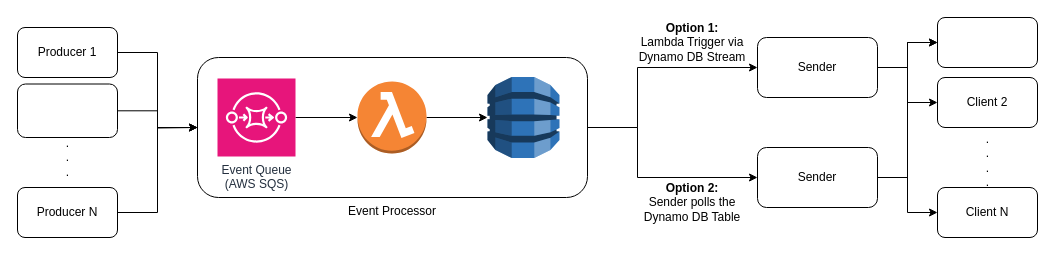
The diagram is 1055 pixels wide and 255 high, and some of its shapes have lost their labels. Here are the shapes that lost their labels. From the top down, the centre of each, then its label:
At point 987,42: "Client 1".
At point 67,110: "Producer 2".
At point 391,117: "Event Processor Service (AWS Lambda)".
At point 523,117: "Event Store (AWS Dynamo DB)".
